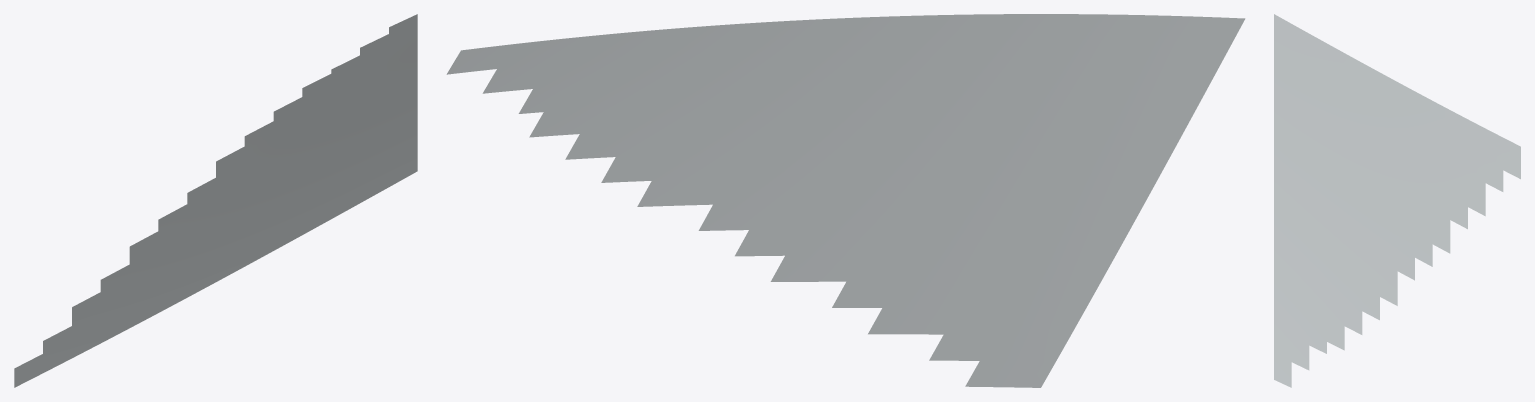
File: alpine-15-7.glb
The picture shows the model from 3 angles, left to right: view 1: azimuth 90°, elevation 25°; view 2: azimuth 150°, elevation 25°; view 3: azimuth 270°, elevation 25°; orthographic projection. The views are drawn at different scales.
Visible parts, largest first — view 1: alpine-15-7; view 2: alpine-15-7; view 3: alpine-15-7.
Boxes of the visible parts, x1,y1,x2,y2 form: alpine-15-7: [14, 14, 417, 387]; alpine-15-7: [446, 14, 1245, 387]; alpine-15-7: [1274, 14, 1520, 387].
Size of the model in its own units: 248 by 71.64 by 112.
Materials: 1 (1 with a texture image).
